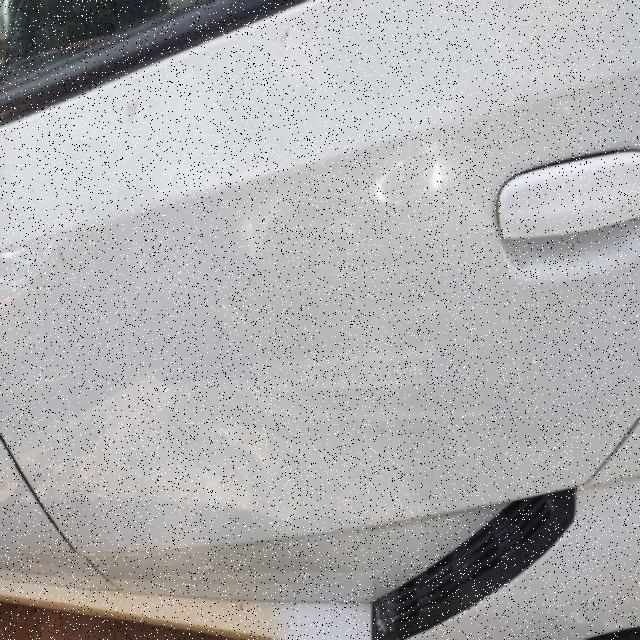bonnet-dent: (34, 14, 590, 547)
